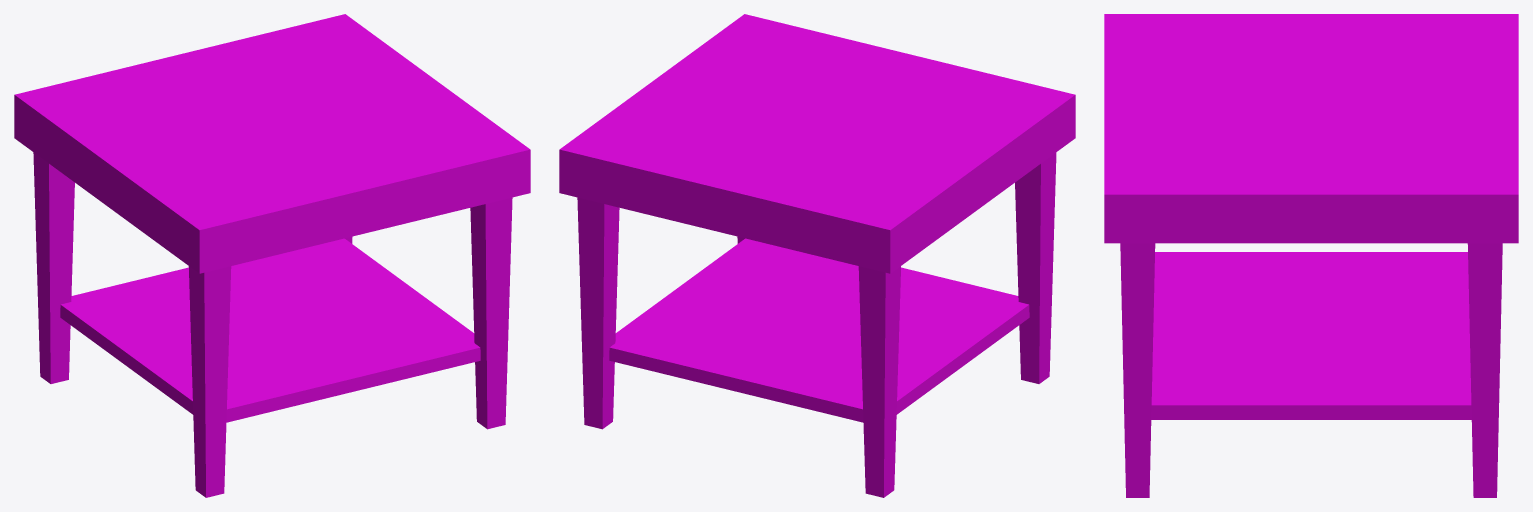
File: SM_SmallTableCollider.fbx
3 views of the same model, side by side, from view 1: azimuth 30°, elevation 25°; view 2: azimuth 150°, elevation 25°; view 3: azimuth 270°, elevation 25° (orthographic). The views are drawn at different scales.
Parts seen in each view (by area): view 1: SmallTableCollision; view 2: SmallTableCollision; view 3: SmallTableCollision.
Part boxes in pixels (x1=…): SmallTableCollision: x1=14, y1=14, x2=530, y2=497; SmallTableCollision: x1=559, y1=14, x2=1075, y2=497; SmallTableCollision: x1=1104, y1=14, x2=1518, y2=497.
Size of the model in its own units: 59.55 by 47.93 by 57.72.
